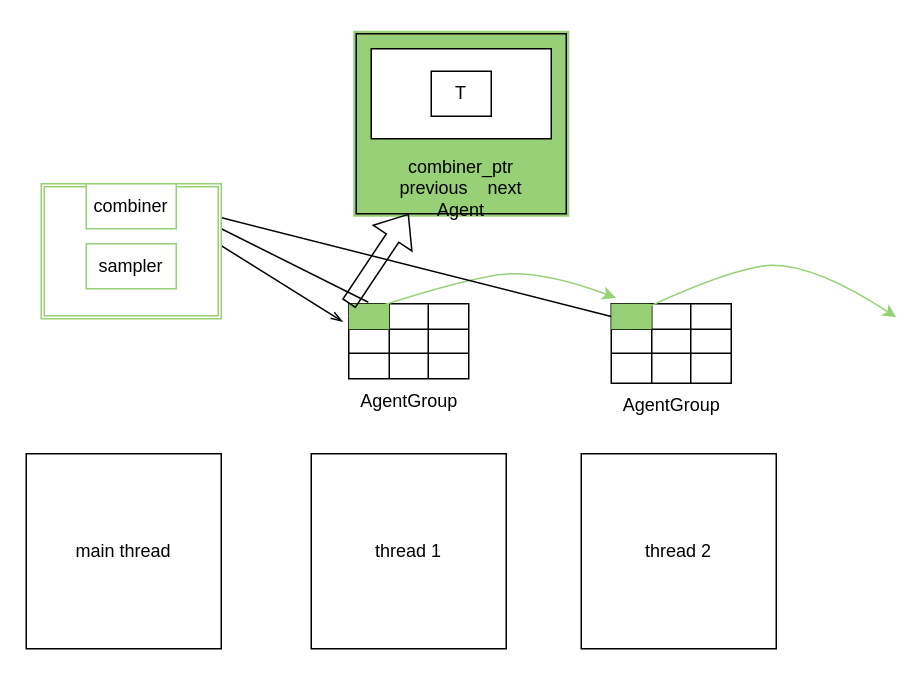
Image size: 923x675. Some labels were removed from this diagram. The box of each missing label's shape, as (x1, y1, x2, y2) in pixels:
ElementContainer<T>: (370, 47, 551, 139)
reducer: (40, 182, 221, 319)
